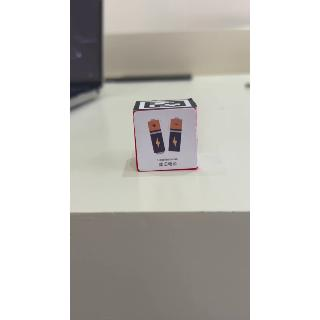Used_Battery: (136, 112, 202, 171)
